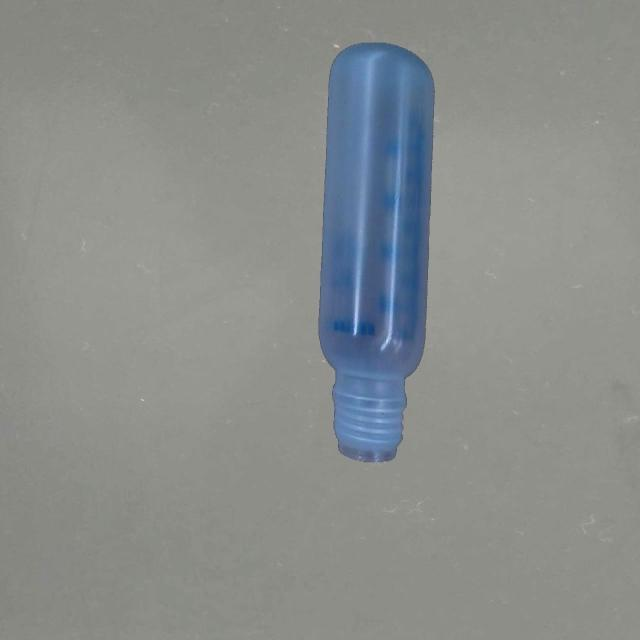bottle: (316, 38, 438, 467)
